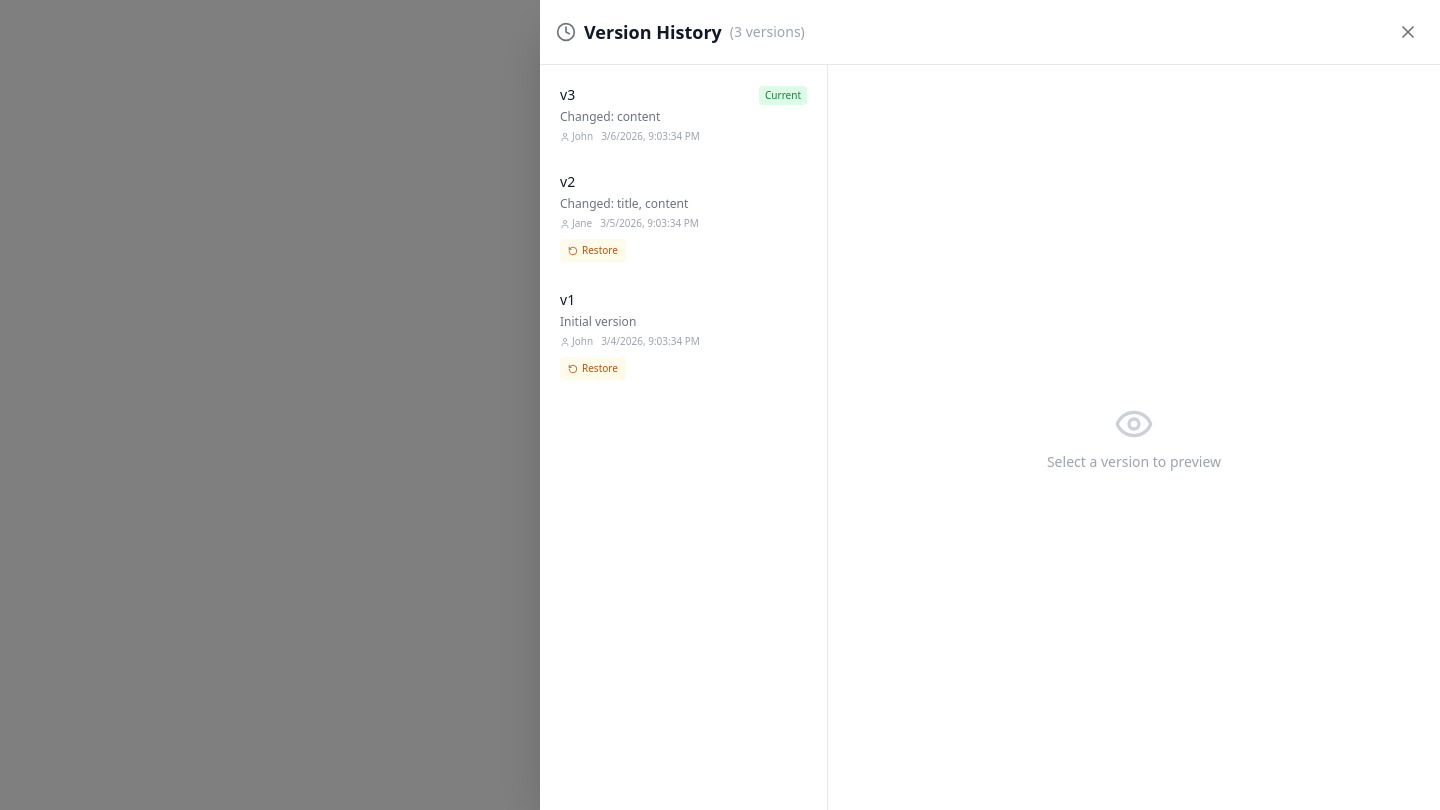
it: VersionHistory › shows restore confirmation when Restore clicked
The image size is (1440, 810).
Step 1. Click the 1st button "Restore" → (593, 250), box [560, 239, 626, 262]
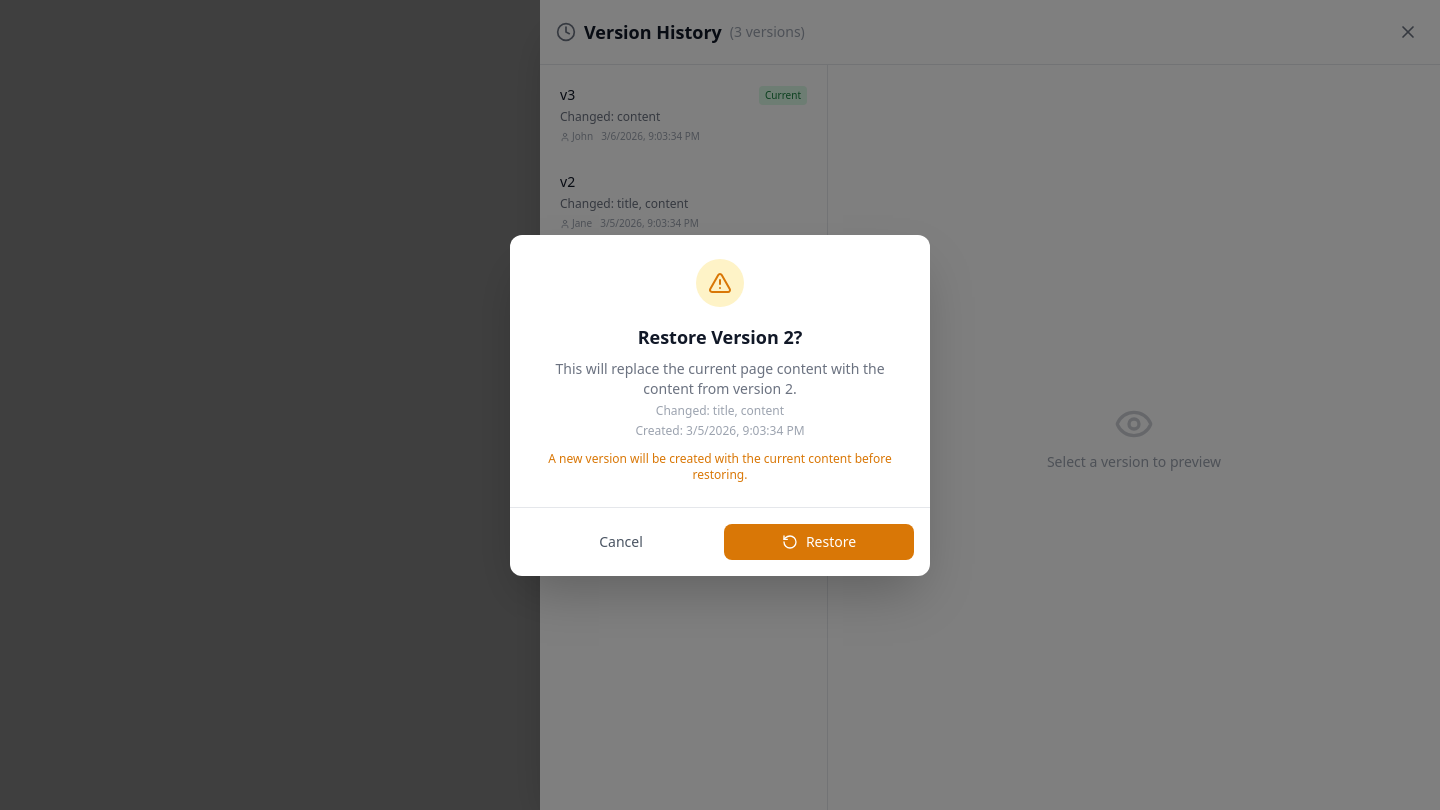
expect the heading "Restore Version 2?" is shown: met, box [638, 324, 802, 348]
